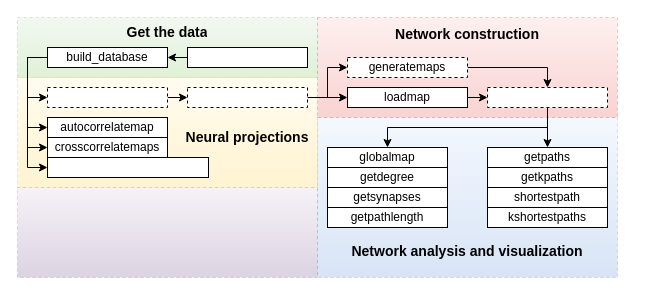
The diagram is 655 pixels wide and 295 high, and some of its shapes have lost their labels. The shapes that lost their labels are listed below. From the top down, each one's centre as x and y in pixels, then its label:
At (247,57): "AMBCA data".
At (107,97): "autothreshold".
At (247,97): "findexperiments".
At (547,97): "filtermap".
At (127,167): "crosscorrelatehemispheres".
At (167,232): "TooCANN Toolbox for Construction and Analysis of Neural Networks".
